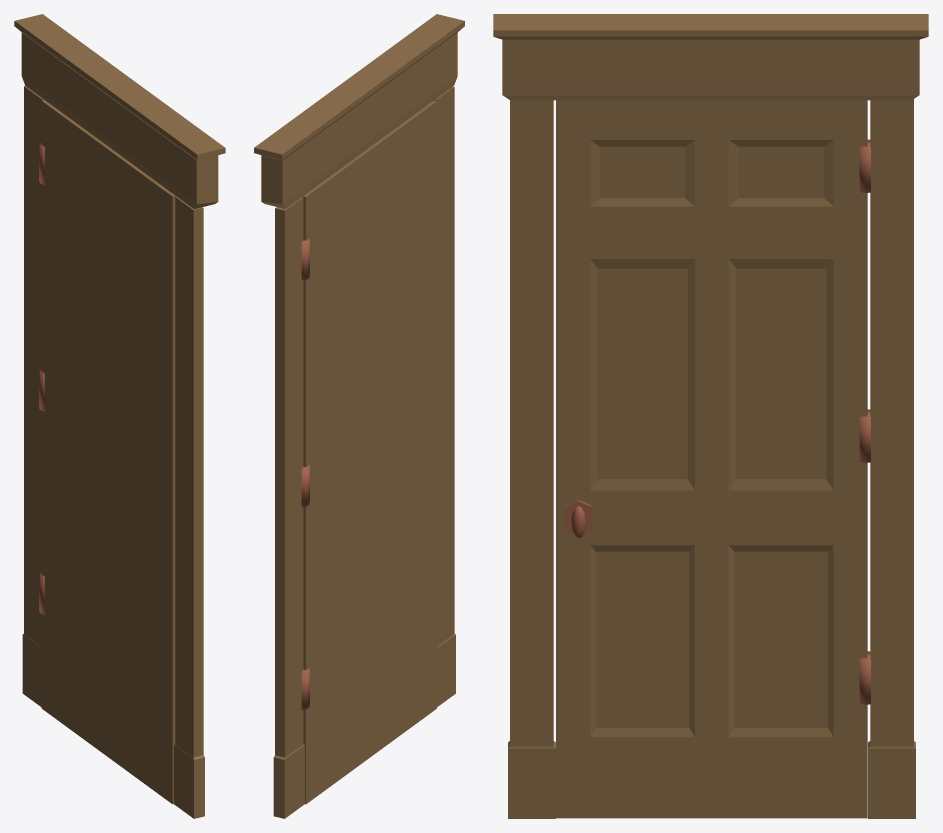
File: WoodDoor.fbx
3 views of the same model, side by side, from view 1: azimuth 30°, elevation 25°; view 2: azimuth 150°, elevation 25°; view 3: azimuth 270°, elevation 25° (orthographic). The views are drawn at different scales.
Parts seen in each view (by area): view 1: Cube, Cube.002, Cube.004, Cube.003; view 2: Cube, Cube.003, Cube.004, Cube.002; view 3: Cube, Cube.004, Cube.002, Cube.003.
Part boxes in pixels (x1,y1,x2,y2): Cube: (41,100,176,804); Cube.002: (174,196,204,818); Cube.004: (14,14,225,208); Cube.003: (22,86,44,706); Cube: (302,100,436,804); Cube.003: (273,197,304,818); Cube.004: (254,14,464,208); Cube.002: (434,86,455,706); Cube: (556,100,867,818); Cube.004: (493,14,928,100); Cube.002: (508,100,555,818); Cube.003: (868,99,915,818).
Bounding box in the file's own units: 10.04 × 226 × 112.
